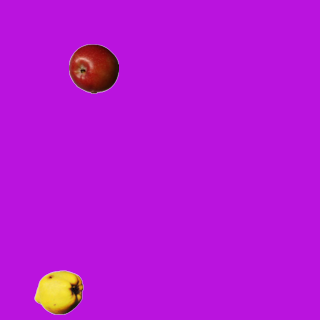Apple Braeburn: (68, 43, 118, 93)
Quince: (33, 267, 83, 317)
